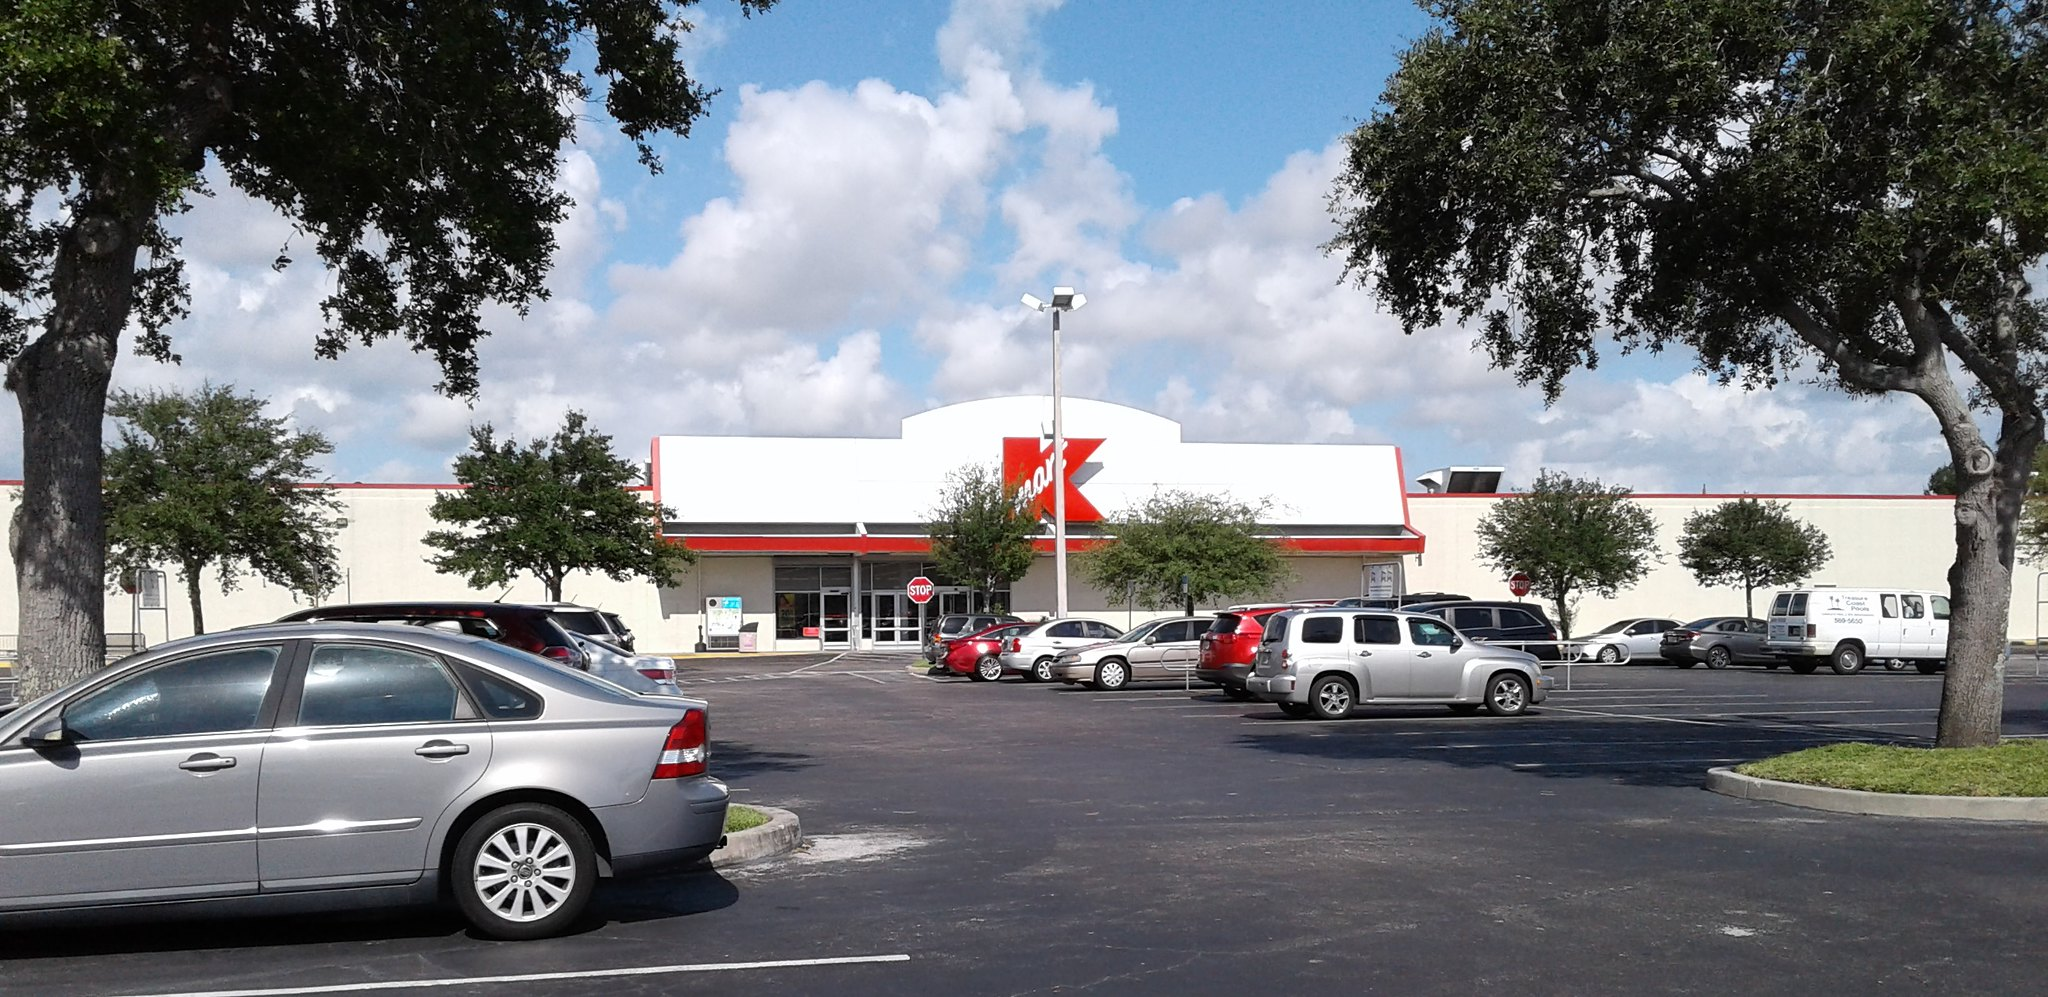Car: (0, 623, 718, 945), (214, 598, 624, 687), (1240, 602, 1566, 713), (1755, 578, 1970, 676), (985, 601, 1112, 703), (1183, 597, 1277, 730), (1051, 615, 1225, 685), (1409, 572, 1573, 646), (927, 604, 1038, 683), (1650, 608, 1770, 672), (1579, 602, 1676, 666)
